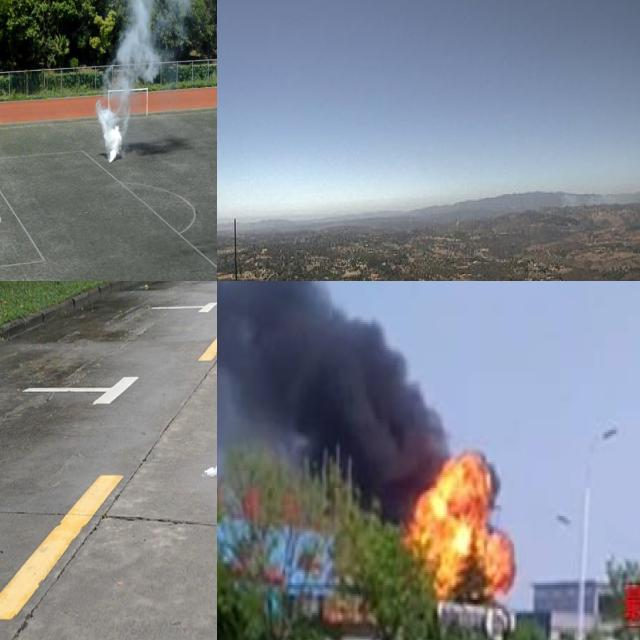fire: (400, 451, 516, 600)
smoke: (217, 281, 435, 483), (95, 0, 189, 162), (551, 170, 640, 208)
